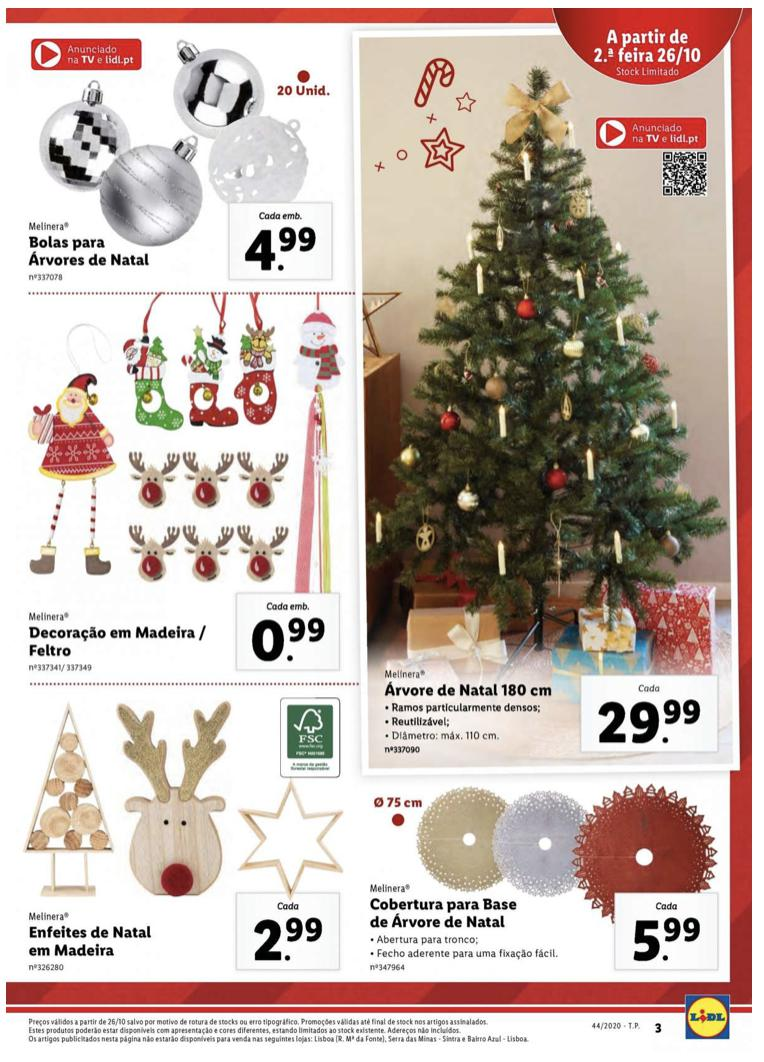name: (28, 624, 208, 661), (24, 232, 155, 276), (366, 897, 522, 932), (24, 922, 155, 958), (382, 680, 557, 702)
price: (591, 694, 707, 751), (238, 223, 320, 278), (246, 614, 329, 662), (249, 915, 326, 965), (627, 912, 702, 962)
product: (379, 49, 730, 757), (16, 302, 341, 677), (8, 693, 353, 978), (15, 32, 345, 287), (363, 778, 729, 974)
